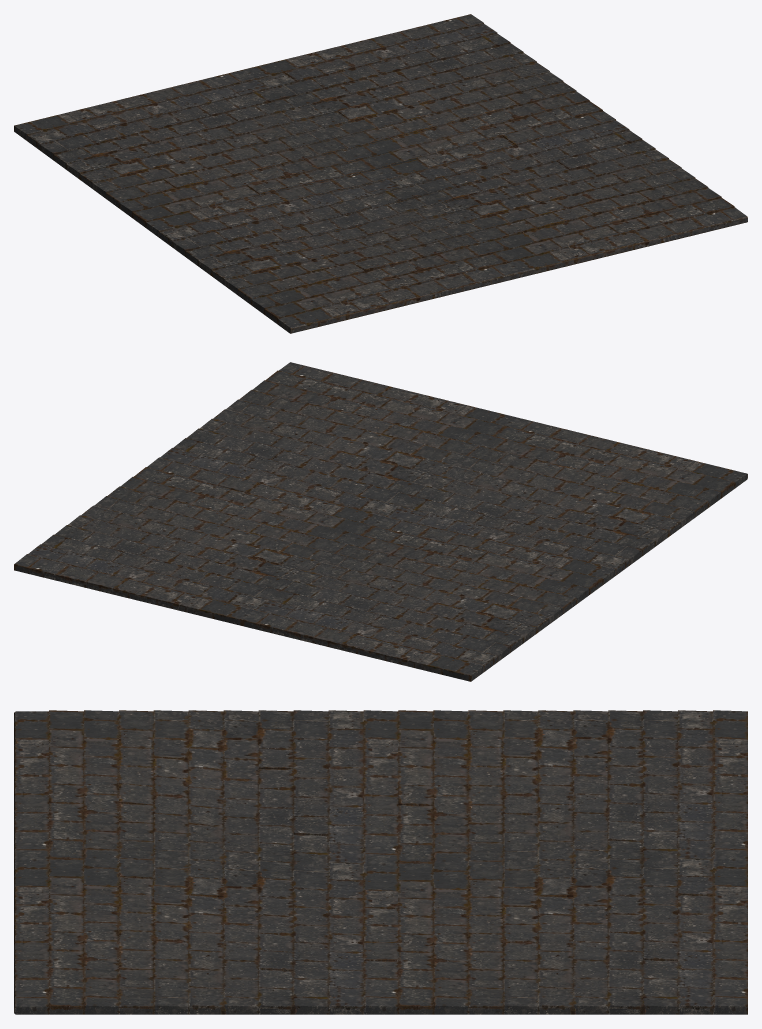
The model's file is Roof.fbx.
The picture shows the model from 3 angles, top to bottom: view 1: azimuth 30°, elevation 25°; view 2: azimuth 150°, elevation 25°; view 3: azimuth 270°, elevation 25°; orthographic projection. The views are drawn at different scales.
Visible parts, largest first — view 1: Roof_LOD0; view 2: Roof_LOD0; view 3: Roof_LOD0.
Part boxes in pixels (x1=…): Roof_LOD0: x1=14, y1=14, x2=747, y2=333; Roof_LOD0: x1=14, y1=362, x2=747, y2=681; Roof_LOD0: x1=14, y1=710, x2=747, y2=1014.
Size of what is drawn, in the model's own units: 400 by 9.77 by 420.
